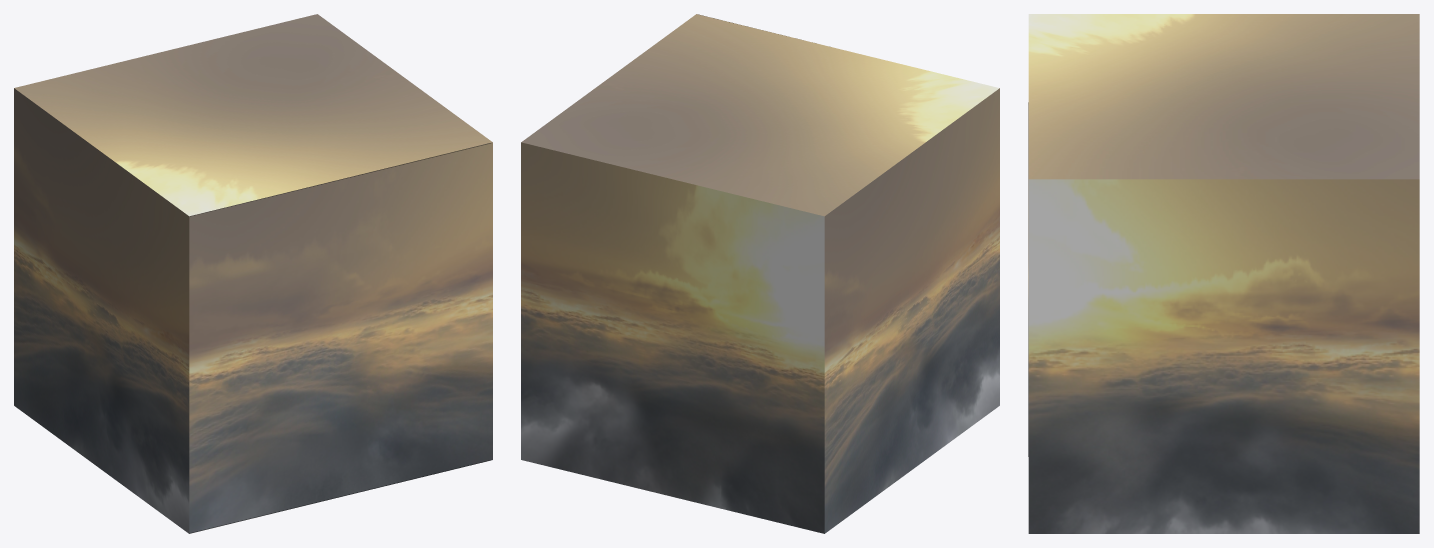
Rendered from Skybox.obj.
The picture shows the model from 3 angles, left to right: view 1: azimuth 30°, elevation 25°; view 2: azimuth 150°, elevation 25°; view 3: azimuth 270°, elevation 25°; orthographic projection. The views are drawn at different scales.
Visible parts, largest first — view 1: pPlane7; view 2: pPlane7; view 3: pPlane7.
Part boxes in pixels (<box>): pPlane7: <box>14,14,492,533</box>; pPlane7: <box>521,14,999,533</box>; pPlane7: <box>1028,14,1419,533</box>.
Size of the model in its own units: 100 by 100 by 100.
1 material, 1 textured.
